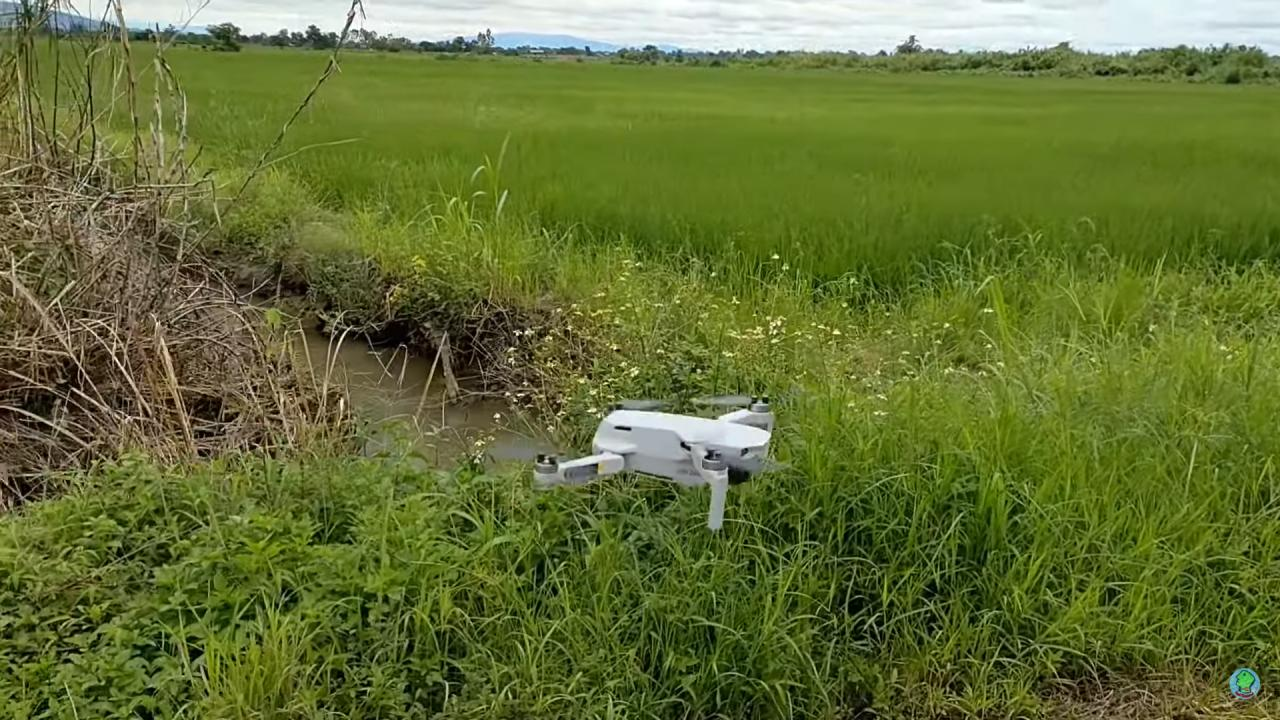Drone: (472, 376, 834, 538)
